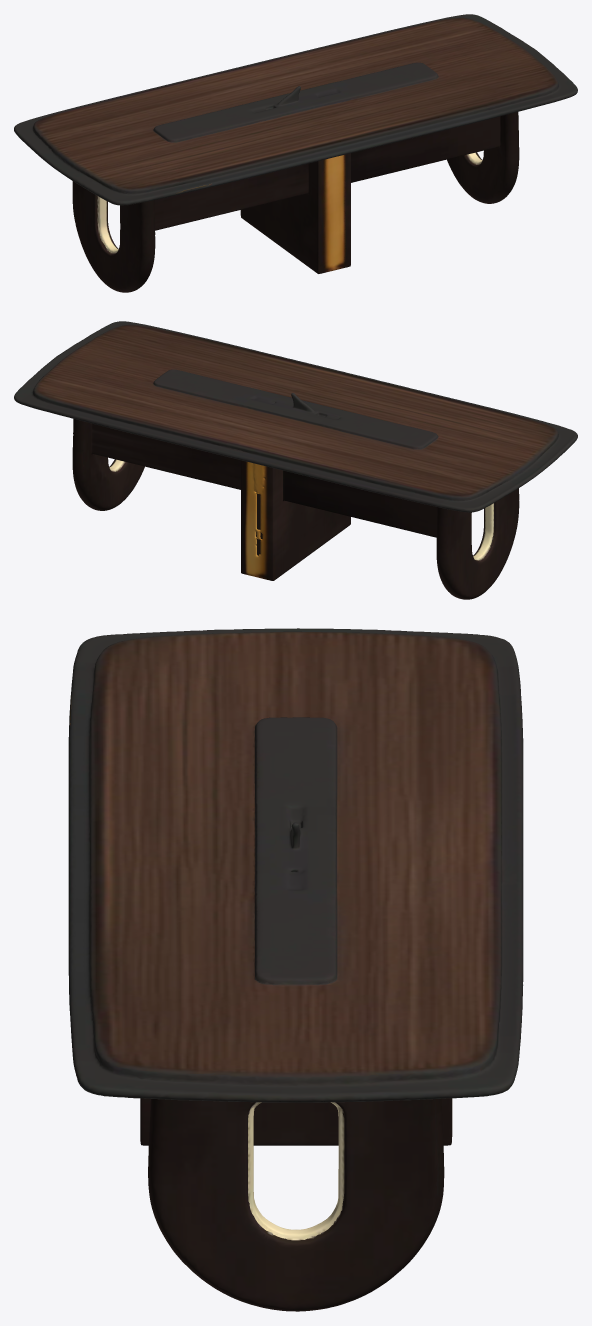
File: 04_深木色长会议桌.glb
3 renders of one model, top to bottom at view 1: azimuth 30°, elevation 25°; view 2: azimuth 150°, elevation 25°; view 3: azimuth 270°, elevation 25°, orthographic. The views are drawn at different scales.
Visible parts, largest first — view 1: world; view 2: world; view 3: world.
Boxes of the visible parts, box(x1,y1,x2,y2) form: world: box(14, 14, 577, 292); world: box(14, 321, 577, 599); world: box(68, 628, 523, 1311).
Size of the model in its own units: 1 by 0.31 by 0.4095.
Materials: 1 (1 with a texture image).
